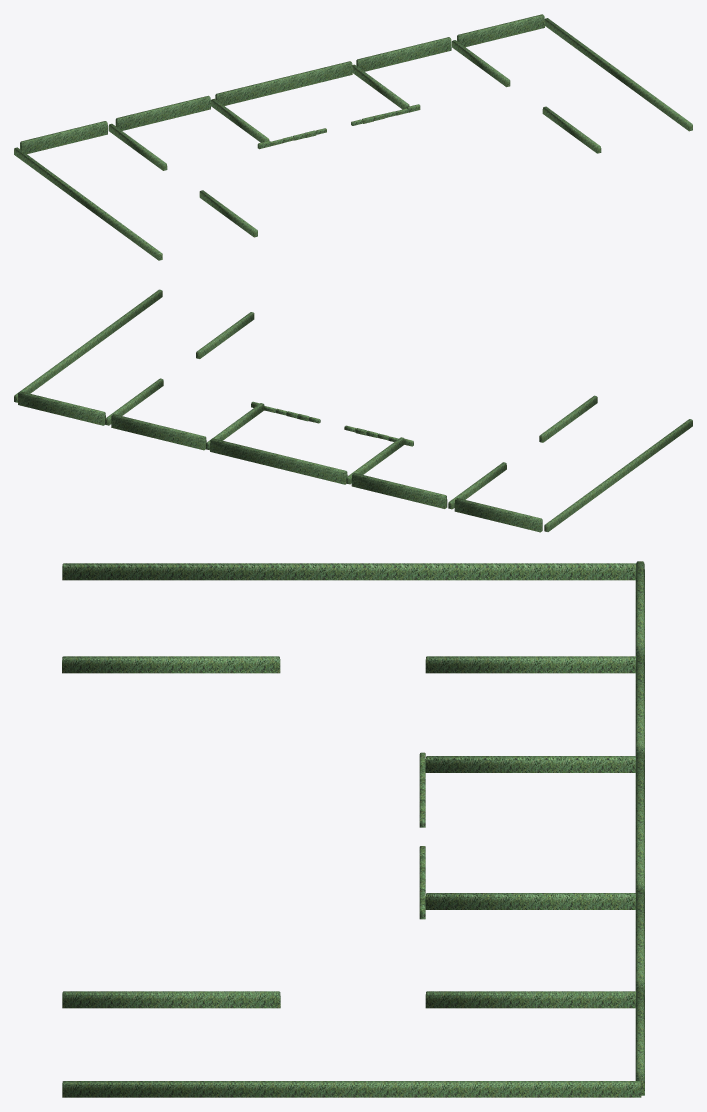
The model's file is Bushes.fbx.
The picture shows the model from 3 angles, top to bottom: view 1: azimuth 30°, elevation 25°; view 2: azimuth 150°, elevation 25°; view 3: azimuth 270°, elevation 25°; orthographic projection. The views are drawn at different scales.
Visible parts, largest first — view 1: Bushes; view 2: Bushes; view 3: Bushes.
Part boxes in pixels (x1,y1,x2,y2): Bushes: (14,14,692,260); Bushes: (14,289,692,532); Bushes: (62,561,644,1097).
Bounding box in the file's own units: 14356 × 320 × 6781.
Materials: 1 (1 with a texture image).
